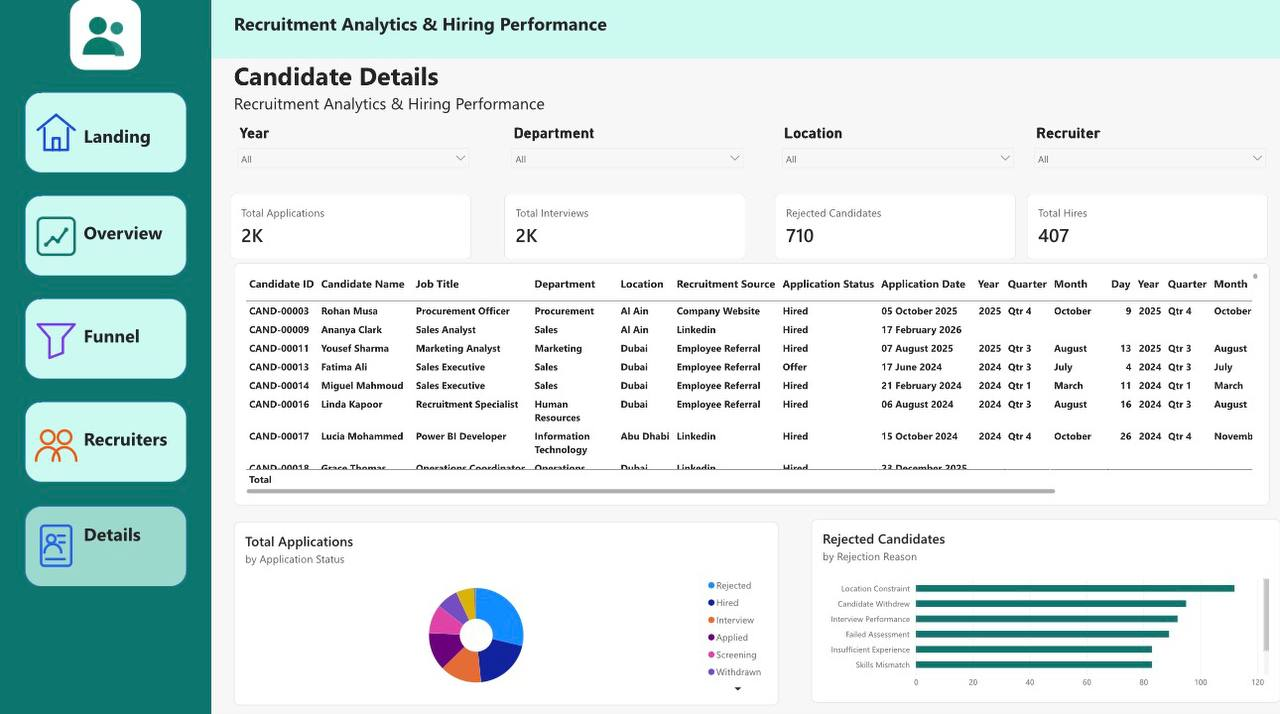

The page's visual inventory and layout, read from the dashboard file:
{"tool":"powerbi","page":{"name":"Candidate Detalis","canvas":[1920,1080],"ordinal":4},"visuals":[{"type":"shape","box":[0,0,317,1080.6],"z":0},{"type":"shape","box":[37,146.2,242.9,121.4],"z":1000},{"type":"shape","box":[37,302.6,242.9,121.4],"z":2000},{"type":"shape","box":[37,457,242.9,121.4],"z":3000},{"type":"shape","box":[37,611.4,242.9,121.4],"z":4000},{"type":"shape","box":[37,767.8,242.9,121.4],"z":5000},{"type":"image","box":[43.2,168.8,82.3,80.3],"z":6000},{"type":"image","box":[43.2,323.2,82.3,80.3],"z":7000},{"type":"image","box":[43.2,477.6,82.3,80.3],"z":8000},{"type":"image","box":[43.2,634,82.3,80.3],"z":9000},{"type":"image","box":[43.2,788.4,82.3,80.3],"z":10000},{"type":"shape","box":[316.6,0,1603.4,96.7],"z":11000},{"type":"textbox","box":[349.9,24.7,609.3,49.4],"z":12000},{"type":"textbox","box":[349.9,96.7,452.8,49.4],"z":13000},{"type":"slicer","fields":{"Values":["Date Table.Date.Variation.Date Hierarchy.Year"]},"box":[349.9,197.7,358.1,63.8],"z":14000},{"type":"slicer","fields":{"Values":["Recruitment_Data.Department"]},"box":[761.6,197.7,358.1,63.8],"z":15000},{"type":"slicer","fields":{"Values":["Recruitment_Data.Location"]},"box":[1167.1,197.7,358.1,63.8],"z":16000},{"type":"slicer","fields":{"Values":["Recruitment_Data.Recruiter"]},"box":[1545.8,197.7,358.1,63.8],"z":17000},{"type":"cardVisual","fields":{"Data":["Recruitment_Data.Total Applications"]},"box":[345,299.3,362.3,98.8],"z":18000},{"type":"donutChart","fields":{"Category":["Recruitment_Data.Application Status"],"Y":["Recruitment_Data.Total Applications"]},"box":[349.9,792.5,817.2,275.8],"z":19000},{"type":"clusteredBarChart","fields":{"Category":["Recruitment_Data.Rejection Reason"],"Y":["Recruitment_Data.Rejected Candidates"]},"box":[1216.5,788.3,703.9,275.8],"z":20000},{"type":"tableEx","fields":{"Values":["Recruitment_Data.Candidate ID","Recruitment_Data.Candidate Name","Recruitment_Data.Job Title","Recruitment_Data.Department","Recruitment_Data.Location","Recruitment_Data.Recruitment Source","Recruitment_Data.Application Status","Recruitment_Data.Application Date","Recruitment_Data.Interview Date.Variation.Date Hierarchy.Year","Recruitment_Data.Interview Date.Variation.Date Hierarchy.Quarter","Recruitment_Data.Interview Date.Variation.Date Hierarchy.Month","Recruitment_Data.Interview Date.Variation.Date Hierarchy.Day"]},"box":[349.9,403.4,1554,364.3],"z":21000},{"type":"textbox","box":[125.6,193.5,107,49.4],"z":22000},{"type":"textbox","box":[125.6,494,107,49.4],"z":23000},{"type":"textbox","box":[125.6,648.4,154.4,49.4],"z":24000},{"type":"textbox","box":[125.6,792.5,107,49.4],"z":25000},{"type":"textbox","box":[349.9,146.1,502.2,32.9],"z":26000},{"type":"cardVisual","fields":{"Data":["Recruitment_Data.Total Interviews"]},"box":[756.6,299.3,362.3,98.8],"z":27000},{"type":"cardVisual","fields":{"Data":["Recruitment_Data.Rejected Candidates"]},"box":[1162.1,299.3,362.3,98.8],"z":28000},{"type":"cardVisual","fields":{"Data":["Recruitment_Data.Total Hires"]},"box":[1540.9,299.3,362.3,98.8],"z":29000},{"type":"textbox","box":[125.6,339.6,127.6,49.4],"z":31000},{"type":"image","box":[8.2,0,300.5,121.4],"z":31001}]}

Visuals, with their boxes on the page's 1920x1080 design canvas (x1, y1, x2, y2). These are canvas units, not pixel positions in the 1280x714 screenshot, which may show the page scaled, cropped or inside an application window:
shape: rect(0, 0, 317, 1081)
shape: rect(37, 146, 280, 268)
shape: rect(37, 303, 280, 424)
shape: rect(37, 457, 280, 578)
shape: rect(37, 611, 280, 733)
shape: rect(37, 768, 280, 889)
image: rect(43, 169, 126, 249)
image: rect(43, 323, 126, 404)
image: rect(43, 478, 126, 558)
image: rect(43, 634, 126, 714)
image: rect(43, 788, 126, 869)
shape: rect(317, 0, 1920, 97)
textbox: rect(350, 25, 959, 74)
textbox: rect(350, 97, 803, 146)
slicer - Date Table.Date.Variation.Date Hierarchy.Year: rect(350, 198, 708, 262)
slicer - Recruitment_Data.Department: rect(762, 198, 1120, 262)
slicer - Recruitment_Data.Location: rect(1167, 198, 1525, 262)
slicer - Recruitment_Data.Recruiter: rect(1546, 198, 1904, 262)
cardVisual - Recruitment_Data.Total Applications: rect(345, 299, 707, 398)
donutChart - Recruitment_Data.Application Status x Recruitment_Data.Total Applications: rect(350, 792, 1167, 1068)
clusteredBarChart - Recruitment_Data.Rejection Reason x Recruitment_Data.Rejected Candidates: rect(1216, 788, 1920, 1064)
tableEx - Recruitment_Data.Candidate ID x Recruitment_Data.Candidate Name: rect(350, 403, 1904, 768)
textbox: rect(126, 194, 233, 243)
textbox: rect(126, 494, 233, 543)
textbox: rect(126, 648, 280, 698)
textbox: rect(126, 792, 233, 842)
textbox: rect(350, 146, 852, 179)
cardVisual - Recruitment_Data.Total Interviews: rect(757, 299, 1119, 398)
cardVisual - Recruitment_Data.Rejected Candidates: rect(1162, 299, 1524, 398)
cardVisual - Recruitment_Data.Total Hires: rect(1541, 299, 1903, 398)
textbox: rect(126, 340, 253, 389)
image: rect(8, 0, 309, 121)
